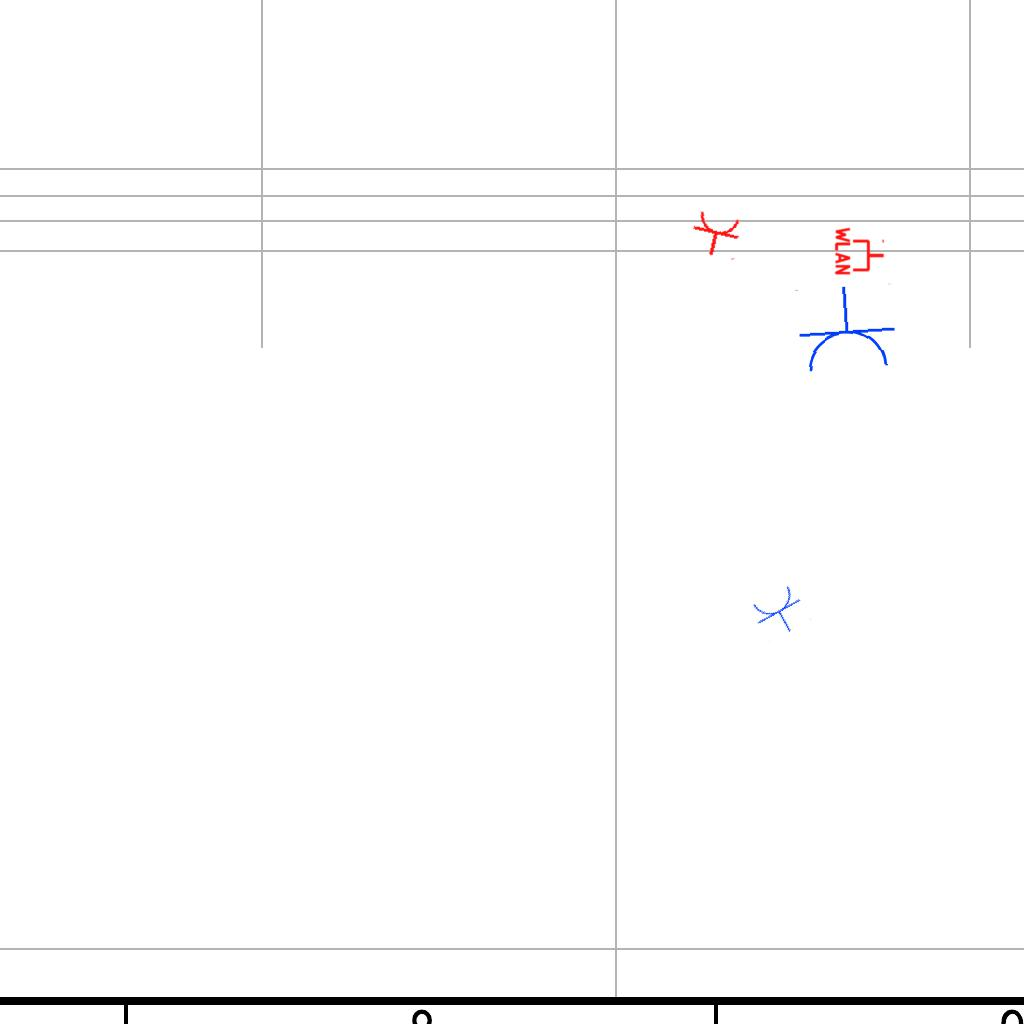Schukosteckdose_einfach: (793, 282, 899, 377), (747, 581, 813, 644), (687, 208, 746, 262)
WLAN: (834, 225, 886, 277)
